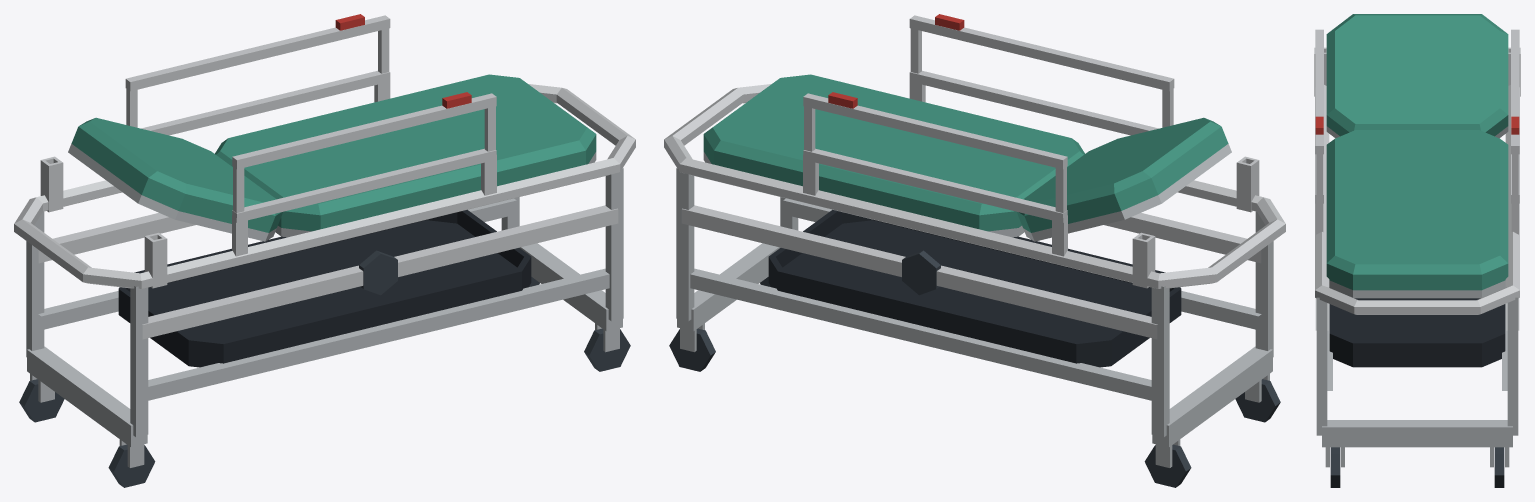
Rendered from patient-trolley-5a44d6.glb.
The picture shows the model from 3 angles, left to right: view 1: azimuth 30°, elevation 25°; view 2: azimuth 150°, elevation 25°; view 3: azimuth 270°, elevation 25°; orthographic projection. The views are drawn at different scales.
Visible parts, largest first — view 1: patient-trolley, tray, backrest, rail-near, rail-far, wheel-rl, wheel-fl, wheel-fr; view 2: patient-trolley, tray, backrest, rail-far, rail-near, wheel-rr, wheel-fr, wheel-fl; view 3: patient-trolley, backrest, tray, rail-far, rail-near, wheel-rl, wheel-rr.
Boxes of the visible parts, x1,y1,x2,y2 form: patient-trolley: (14,74,635,467); tray: (118,209,531,367); backrest: (68,117,282,241); rail-near: (232,92,496,222); rail-far: (125,14,390,135); wheel-rl: (584,328,630,371); wheel-fl: (108,444,155,487); wheel-fr: (19,379,64,422); patient-trolley: (664,74,1285,467); tray: (768,209,1181,367); backrest: (1017,117,1231,241); rail-far: (803,92,1067,222); rail-near: (909,14,1174,135); wheel-rr: (669,328,715,371); wheel-fr: (1144,444,1191,487); wheel-fl: (1235,379,1280,422); patient-trolley: (1314,47,1520,467); backrest: (1326,14,1508,138); tray: (1329,298,1505,367); rail-far: (1511,29,1519,203); rail-near: (1315,29,1323,203); wheel-rl: (1330,447,1340,487); wheel-rr: (1494,447,1504,487).
Bounding box in the file's own units: 2 × 1.09 × 0.7036.
